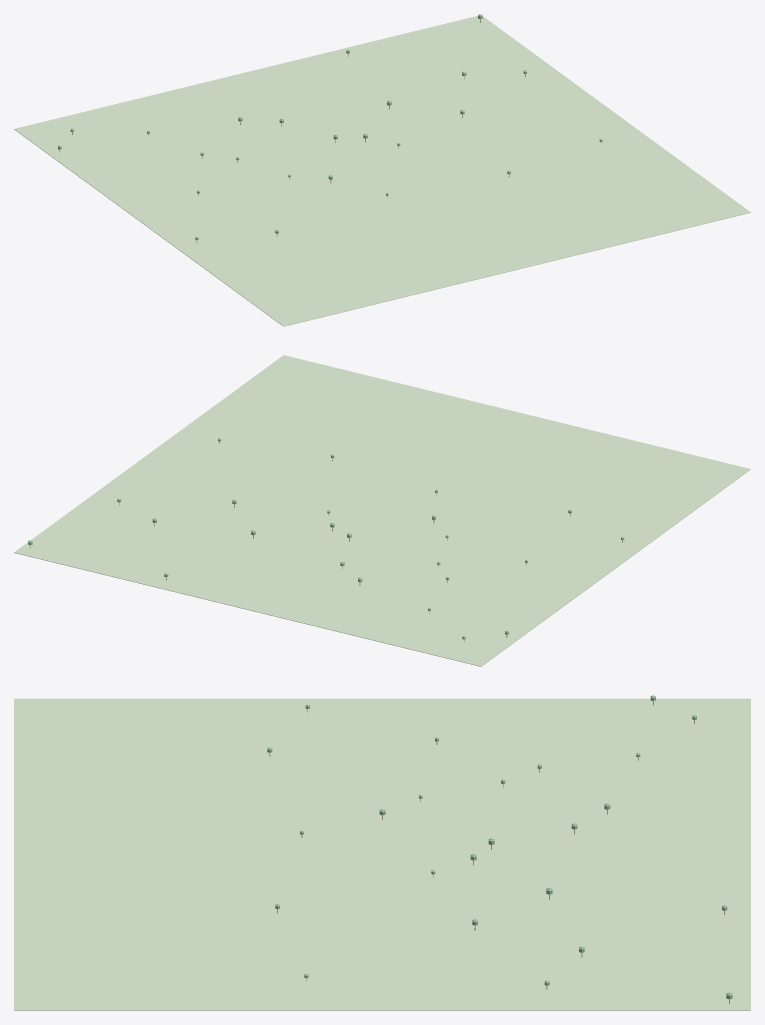
Rendered from chunk_6_7_low.glb.
The picture shows the model from 3 angles, top to bottom: view 1: azimuth 30°, elevation 25°; view 2: azimuth 150°, elevation 25°; view 3: azimuth 270°, elevation 25°; orthographic projection. The views are drawn at different scales.
Parts seen in each view (by area): view 1: city_grass; view 2: city_grass; view 3: city_grass, city_foliage_dark.
Boxes of the visible parts, x1,y1,x2,y2 form: city_grass: (14,16,750,326); city_grass: (14,355,750,666); city_grass: (14,698,750,1010); city_foliage_dark: (267,695,732,999).
Bounding box in the file's own units: 512 × 9.53 × 512.
